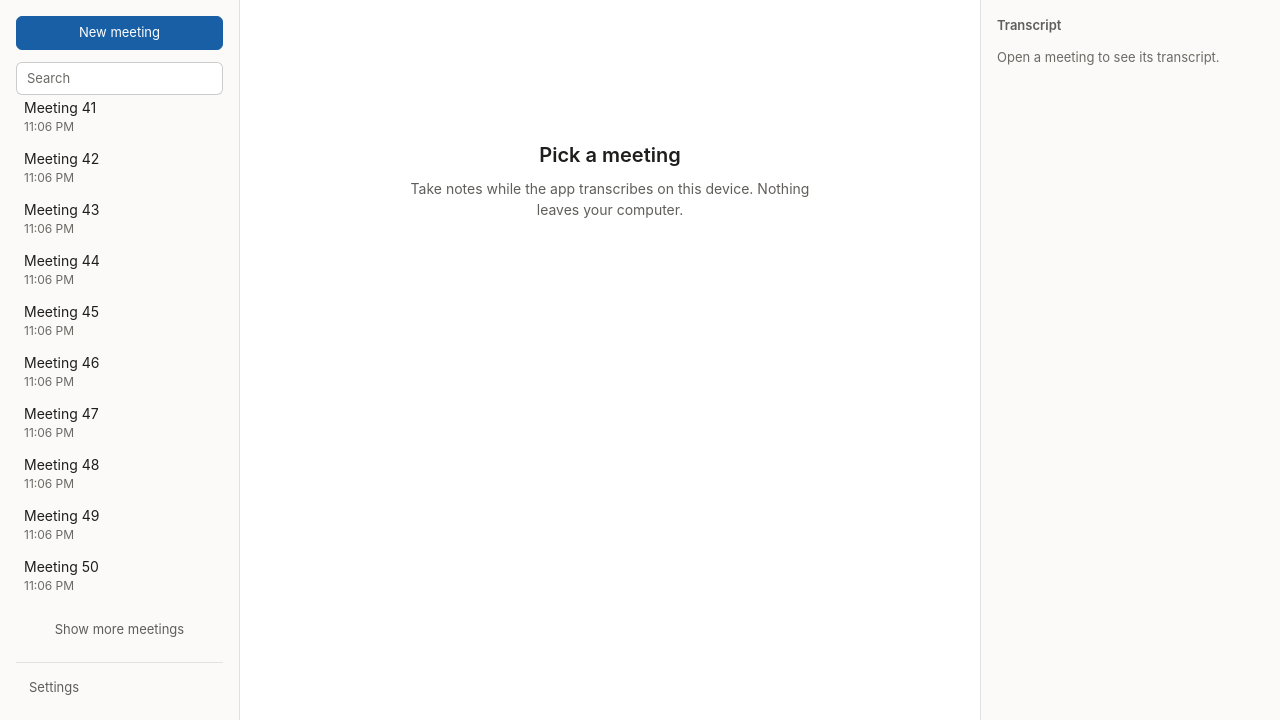
Scenario: App › paging › loads the newest page first and the rest on request
(page scrolled)
Click the button "Show more meetings" at (120, 629), box [16, 612, 223, 646]
(page scrolled)
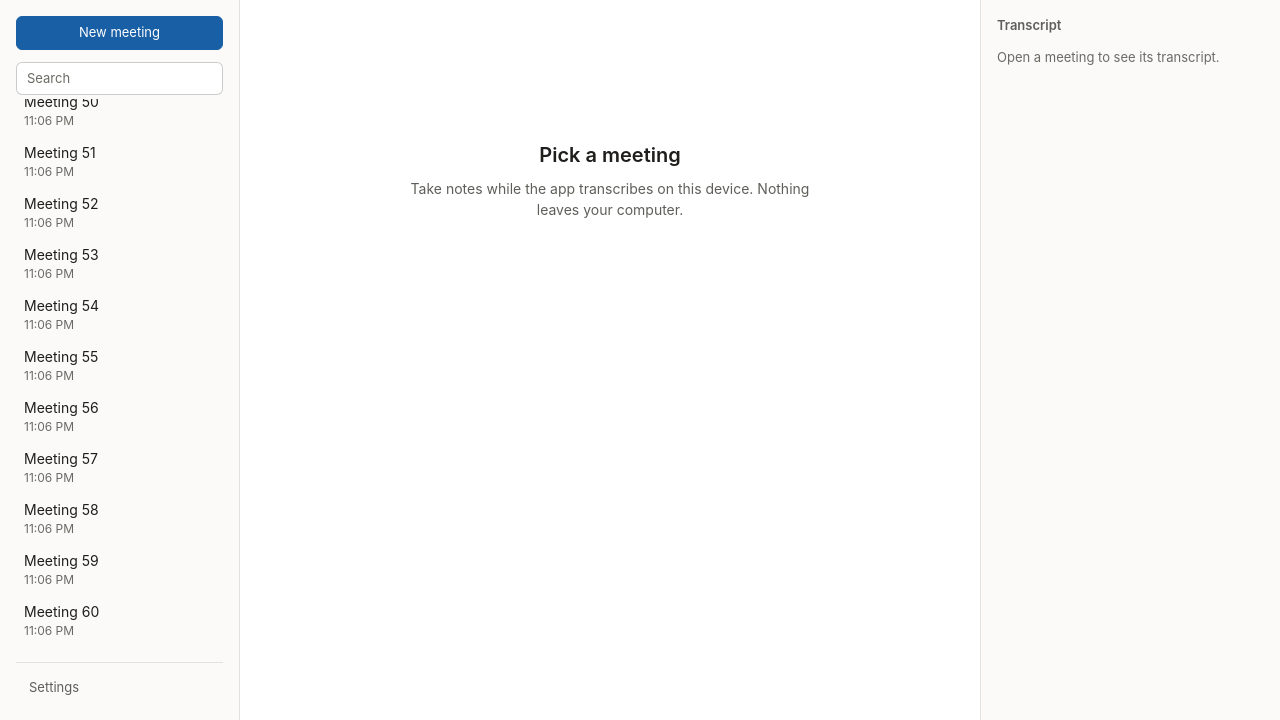
Now the button with aria-label "Meeting 60," is shown, box [16, 594, 223, 646]
Now the button "Show more meetings" is gone
